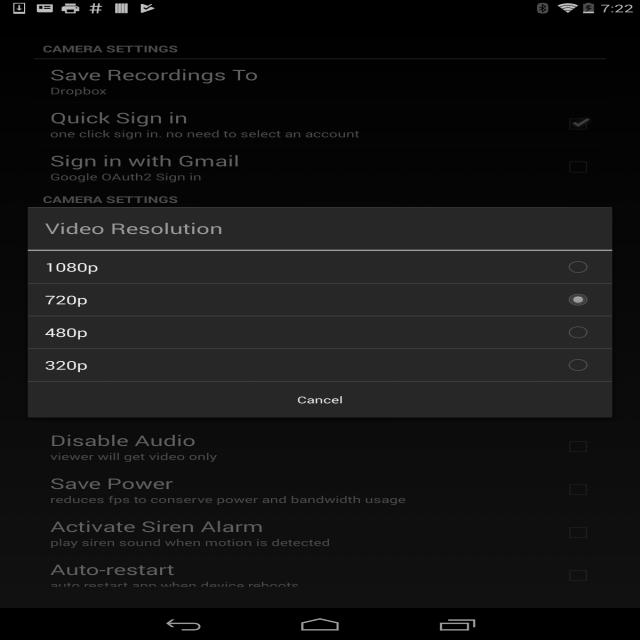CheckBox: (564, 112, 596, 133)
RadioButton: (564, 320, 592, 341), (562, 356, 594, 374), (567, 290, 593, 306)
TextView: (47, 431, 224, 469), (44, 67, 266, 85), (43, 220, 233, 240), (45, 561, 189, 580), (45, 110, 195, 128), (41, 320, 98, 343), (284, 390, 353, 408), (42, 258, 104, 278), (36, 357, 98, 377)
